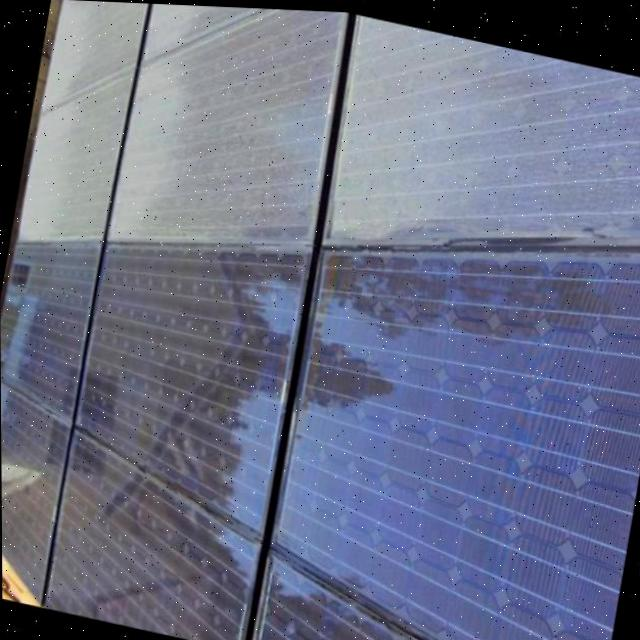Anomaly Solar Panel: (16, 0, 640, 240)
Normal Solar Panel: (252, 244, 640, 640), (44, 242, 312, 640), (0, 243, 100, 603)
Surface Contaminant: (324, 10, 640, 237), (106, 2, 347, 240), (15, 0, 143, 240)
